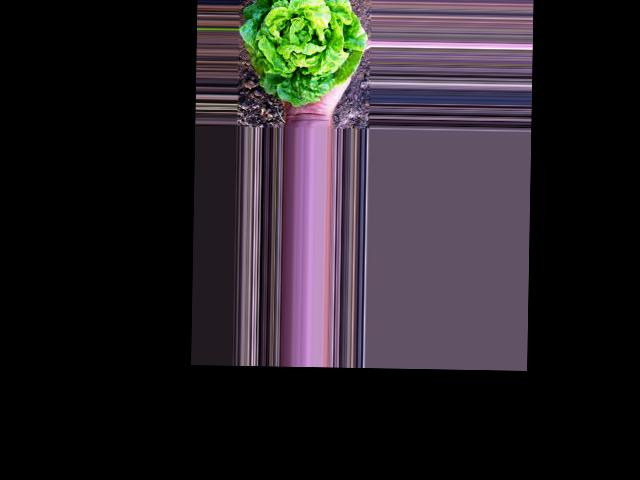lettuce: (212, 15, 349, 103)
